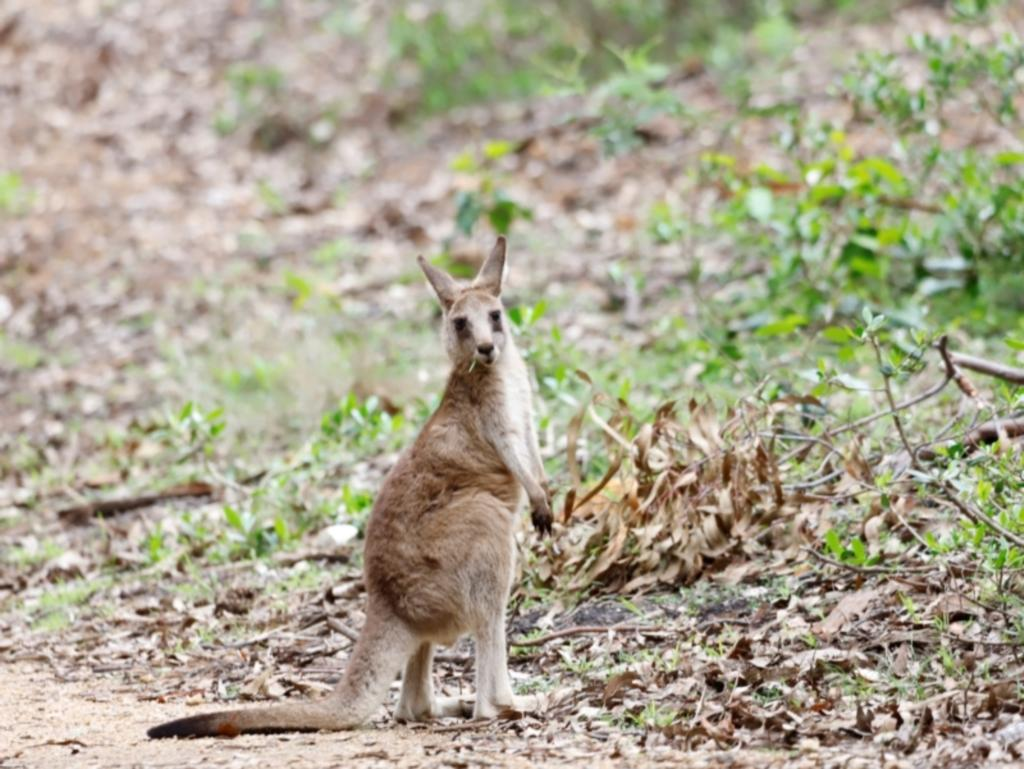Eastern grey kangaroo: (144, 235, 567, 747)
